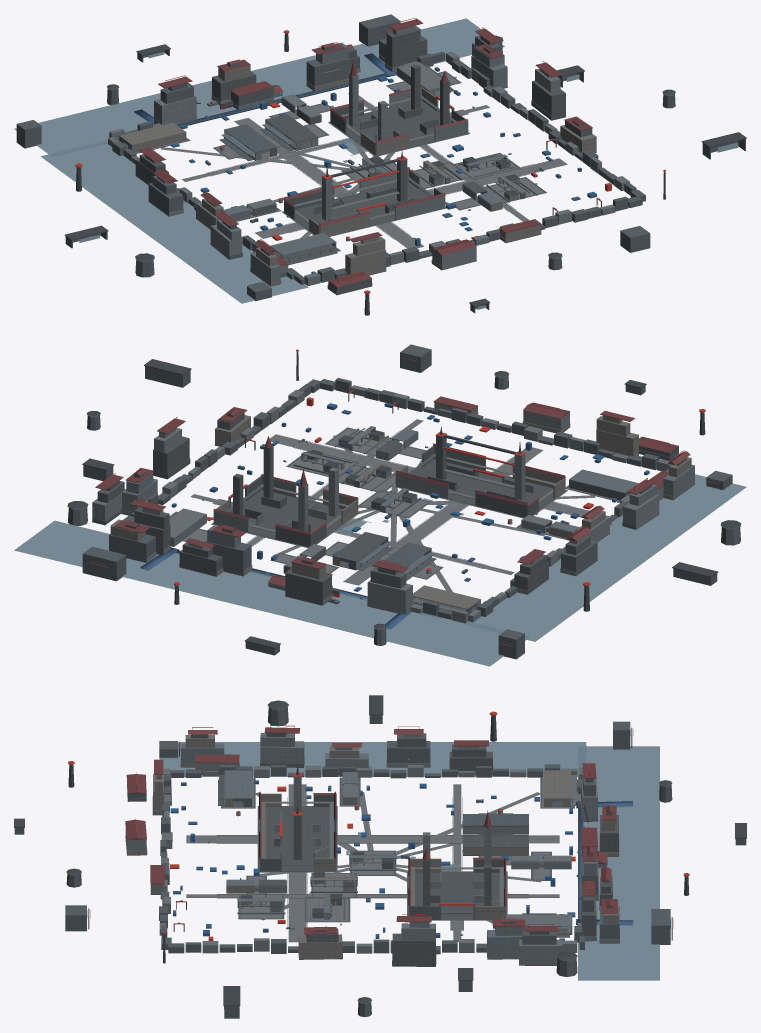
File: kouwan-lod1.glb
3 views of the same model, one above another, from view 1: azimuth 30°, elevation 25°; view 2: azimuth 150°, elevation 25°; view 3: azimuth 270°, elevation 25° (orthographic). The views are drawn at different scales.
Visible parts, largest first — view 1: HB_kouwan_LOD1_water, HB_kouwan_LOD1_wall_alt, HB_kouwan_LOD1_road, HB_kouwan_LOD1_wall, HB_kouwan_LOD1_wall_weathered, HB_kouwan_LOD1_wall_cool, HB_kouwan_LOD1_wall_warm, HB_kouwan_LOD1_roof, HB_kouwan_LOD1_LANDMARK_1_wall_weathered, HB_kouwan_LOD1_trim, HB_kouwan_LOD1_LANDMARK_0_wall_weathered, HB_kouwan_LOD1_obstacle (+10 smaller); view 2: HB_kouwan_LOD1_water, HB_kouwan_LOD1_wall_alt, HB_kouwan_LOD1_wall, HB_kouwan_LOD1_road, HB_kouwan_LOD1_wall_weathered, HB_kouwan_LOD1_wall_cool, HB_kouwan_LOD1_wall_warm, HB_kouwan_LOD1_roof, HB_kouwan_LOD1_LANDMARK_1_wall_weathered, HB_kouwan_LOD1_trim, HB_kouwan_LOD1_LANDMARK_0_wall_weathered, HB_kouwan_LOD1_obstacle (+10 smaller); view 3: HB_kouwan_LOD1_water, HB_kouwan_LOD1_wall_alt, HB_kouwan_LOD1_wall, HB_kouwan_LOD1_road, HB_kouwan_LOD1_wall_weathered, HB_kouwan_LOD1_roof, HB_kouwan_LOD1_wall_cool, HB_kouwan_LOD1_wall_warm, HB_kouwan_LOD1_LANDMARK_0_wall_weathered, HB_kouwan_LOD1_LANDMARK_1_wall_weathered, HB_kouwan_LOD1_trim, HB_kouwan_LOD1_obstacle (+5 smaller).
Boxes of the visible parts, bbox=[...] form: HB_kouwan_LOD1_water: bbox=[14, 18, 504, 303]; HB_kouwan_LOD1_wall_alt: bbox=[16, 14, 745, 313]; HB_kouwan_LOD1_road: bbox=[135, 71, 567, 251]; HB_kouwan_LOD1_wall: bbox=[108, 26, 629, 285]; HB_kouwan_LOD1_wall_weathered: bbox=[119, 26, 565, 294]; HB_kouwan_LOD1_wall_cool: bbox=[128, 42, 537, 285]; HB_kouwan_LOD1_wall_warm: bbox=[119, 25, 596, 285]; HB_kouwan_LOD1_roof: bbox=[139, 19, 592, 287]; HB_kouwan_LOD1_LANDMARK_1_wall_weathered: bbox=[330, 64, 468, 147]; HB_kouwan_LOD1_trim: bbox=[64, 18, 746, 315]; HB_kouwan_LOD1_LANDMARK_0_wall_weathered: bbox=[284, 158, 442, 229]; HB_kouwan_LOD1_obstacle: bbox=[170, 67, 596, 273]; HB_kouwan_LOD1_water: bbox=[14, 474, 746, 666]; HB_kouwan_LOD1_wall_alt: bbox=[68, 344, 740, 659]; HB_kouwan_LOD1_wall: bbox=[92, 385, 671, 623]; HB_kouwan_LOD1_road: bbox=[182, 419, 619, 599]; HB_kouwan_LOD1_wall_weathered: bbox=[92, 428, 687, 614]; HB_kouwan_LOD1_wall_cool: bbox=[122, 428, 694, 613]; HB_kouwan_LOD1_wall_warm: bbox=[110, 402, 691, 609]; HB_kouwan_LOD1_roof: bbox=[95, 396, 690, 586]; HB_kouwan_LOD1_LANDMARK_1_wall_weathered: bbox=[231, 445, 342, 547]; HB_kouwan_LOD1_trim: bbox=[67, 351, 741, 658]; HB_kouwan_LOD1_LANDMARK_0_wall_weathered: bbox=[412, 434, 553, 517]; HB_kouwan_LOD1_obstacle: bbox=[89, 357, 719, 646]; HB_kouwan_LOD1_water: bbox=[159, 742, 659, 980]; HB_kouwan_LOD1_wall_alt: bbox=[14, 707, 746, 1018]; HB_kouwan_LOD1_wall: bbox=[125, 734, 619, 965]; HB_kouwan_LOD1_road: bbox=[186, 778, 574, 942]; HB_kouwan_LOD1_wall_weathered: bbox=[127, 733, 618, 966]; HB_kouwan_LOD1_roof: bbox=[125, 727, 617, 934]; HB_kouwan_LOD1_wall_cool: bbox=[181, 732, 606, 958]; HB_kouwan_LOD1_wall_warm: bbox=[127, 735, 618, 959]; HB_kouwan_LOD1_LANDMARK_0_wall_weathered: bbox=[260, 794, 335, 871]; HB_kouwan_LOD1_LANDMARK_1_wall_weathered: bbox=[409, 859, 505, 919]; HB_kouwan_LOD1_trim: bbox=[14, 695, 746, 1005]; HB_kouwan_LOD1_obstacle: bbox=[87, 729, 670, 940].
Bounding box in the file's own units: 652 × 69.28 × 643.
13 materials, 11 textured.
